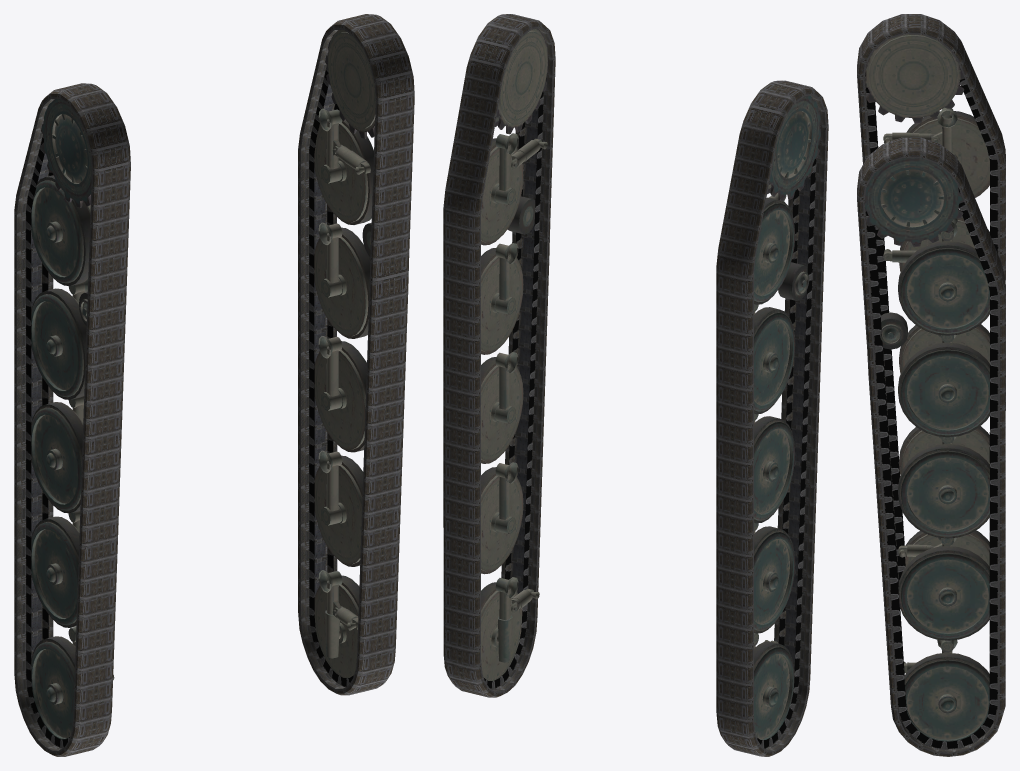
File: Chassis.glb
3 renders of one model, left to right at view 1: azimuth 30°, elevation 25°; view 2: azimuth 150°, elevation 25°; view 3: azimuth 270°, elevation 25°, orthographic. The views are drawn at different scales.
Visible parts, largest first — view 1: set_1_group_0, set_0_group_0, set_2_group_0, set_3_group_0; view 2: set_1_group_0, set_0_group_0, set_2_group_0, set_3_group_0; view 3: set_2_group_0, set_0_group_0, set_3_group_0, set_1_group_0.
Part boxes in pixels (bbox=[...]): set_1_group_0: bbox=[14, 83, 130, 756]; set_0_group_0: bbox=[298, 14, 414, 695]; set_2_group_0: bbox=[314, 30, 375, 677]; set_3_group_0: bbox=[31, 99, 114, 739]; set_1_group_0: bbox=[716, 80, 828, 756]; set_0_group_0: bbox=[443, 14, 555, 697]; set_2_group_0: bbox=[481, 28, 547, 680]; set_3_group_0: bbox=[749, 95, 820, 739]; set_2_group_0: bbox=[864, 158, 989, 741]; set_0_group_0: bbox=[857, 137, 1005, 756]; set_3_group_0: bbox=[865, 29, 989, 566]; set_1_group_0: bbox=[857, 14, 1005, 583].
Bounding box in the file's own units: 2.13 × 4.33 × 0.961.
Materials: 4 (4 with a texture image).
